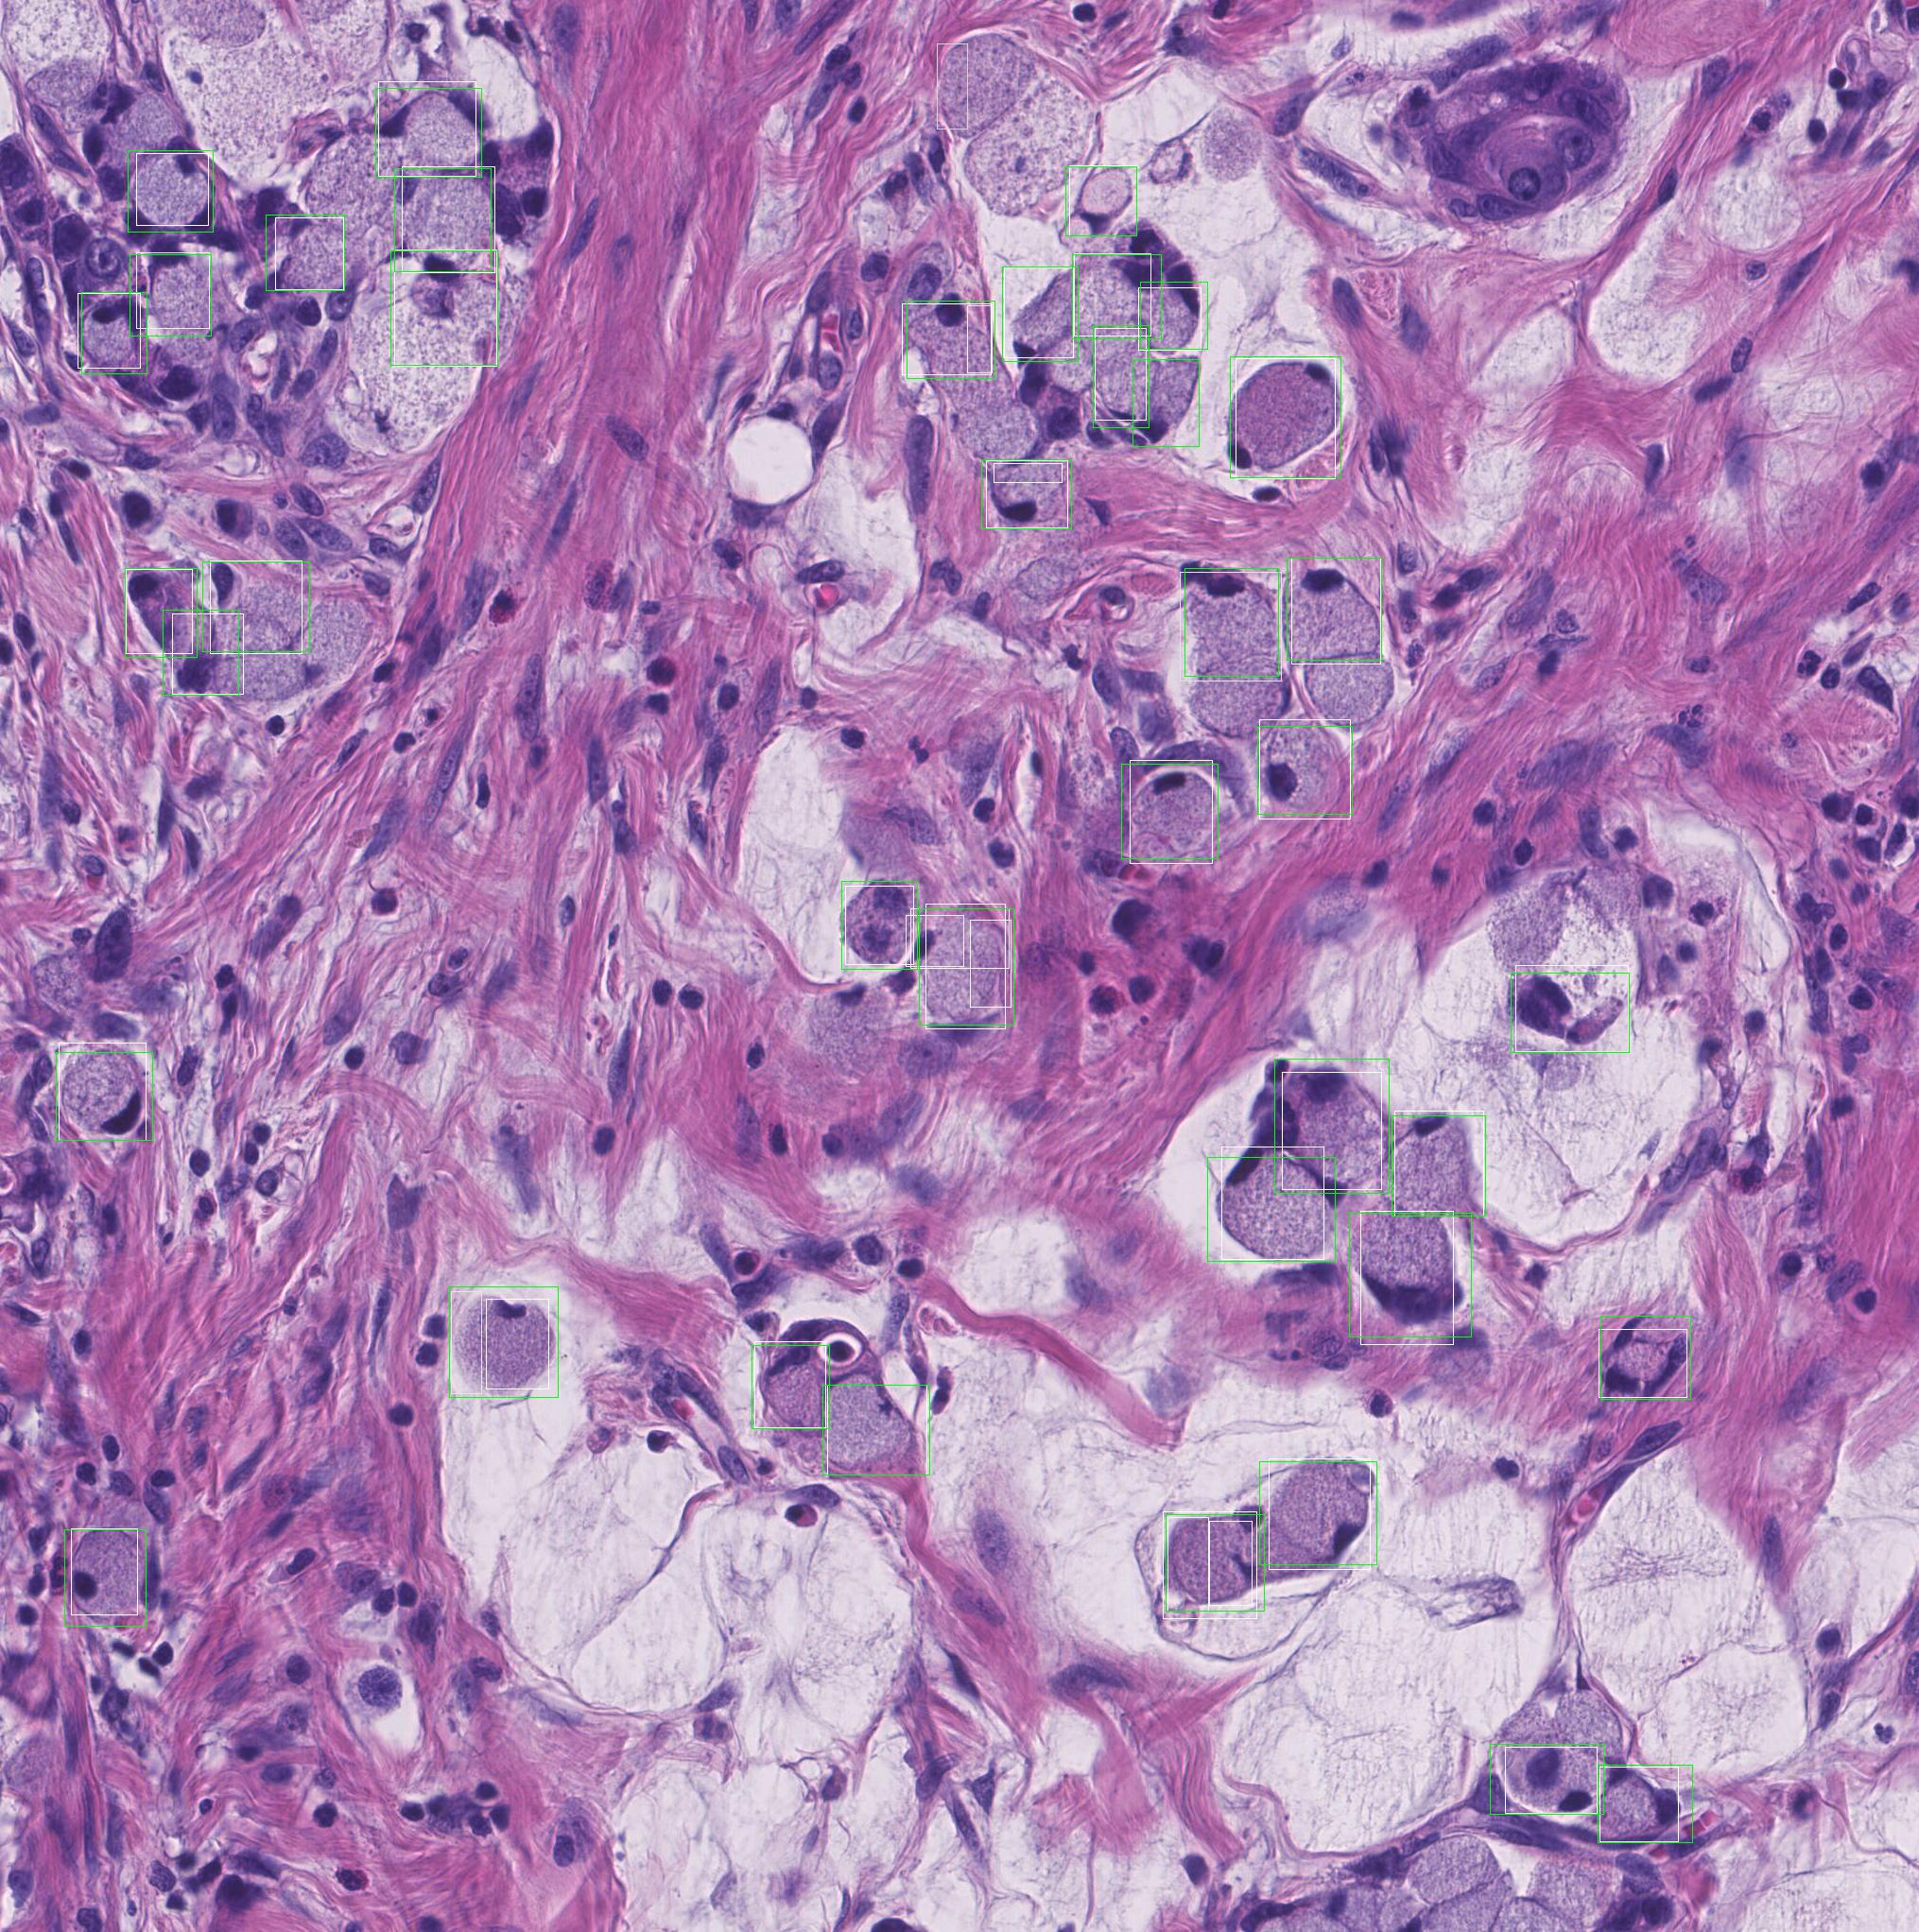ring_cell_cancer: (1360, 1210, 1453, 1344), (1235, 358, 1336, 478), (394, 249, 496, 365), (1281, 1071, 1381, 1189), (1221, 1147, 1323, 1259), (1269, 1458, 1369, 1568), (1179, 573, 1281, 680), (926, 903, 1005, 1029), (1163, 1512, 1256, 1618), (1515, 964, 1627, 1050), (402, 167, 494, 272), (1394, 1110, 1483, 1215), (378, 81, 476, 176), (1292, 559, 1380, 664), (828, 1384, 926, 1475), (1260, 720, 1350, 818), (209, 560, 302, 653), (58, 1043, 146, 1140), (1130, 761, 1213, 862), (1074, 253, 1151, 335), (1003, 267, 1074, 357), (902, 304, 991, 374), (754, 1342, 826, 1428), (1504, 1748, 1597, 1813), (910, 908, 1009, 968), (1599, 1330, 1687, 1396), (1599, 1767, 1678, 1841), (485, 1298, 548, 1389), (70, 1528, 137, 1614), (172, 613, 243, 694), (135, 253, 209, 328), (127, 569, 192, 653), (845, 885, 914, 964), (986, 460, 1067, 527), (1132, 362, 1195, 444), (135, 153, 207, 225), (1068, 165, 1137, 235), (276, 218, 343, 290), (77, 293, 141, 367), (1095, 328, 1146, 420), (1139, 288, 1200, 350), (1167, 1517, 1207, 1611), (1209, 1521, 1251, 1605), (970, 920, 1010, 1006), (452, 1291, 482, 1393), (905, 915, 963, 966), (937, 44, 967, 128), (967, 306, 991, 372), (993, 464, 1061, 481)
